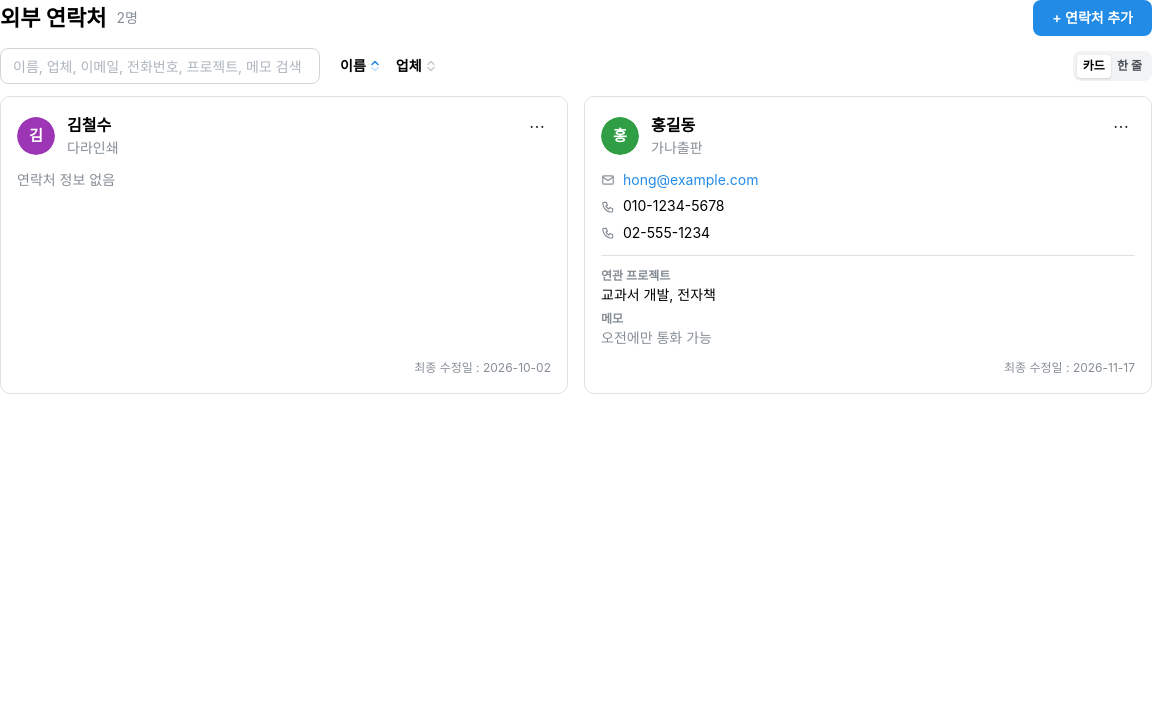
Test: ContactsPage › 수정 창을 닫은 뒤 추가 창을 열면 이전 값 없이 빈 입력으로 시작한다
Check: the text "홍길동" is shown, box 651,113 -> 702,138
Click the button named "홍길동 메뉴" at (1121, 127), box 1107,113 -> 1135,141
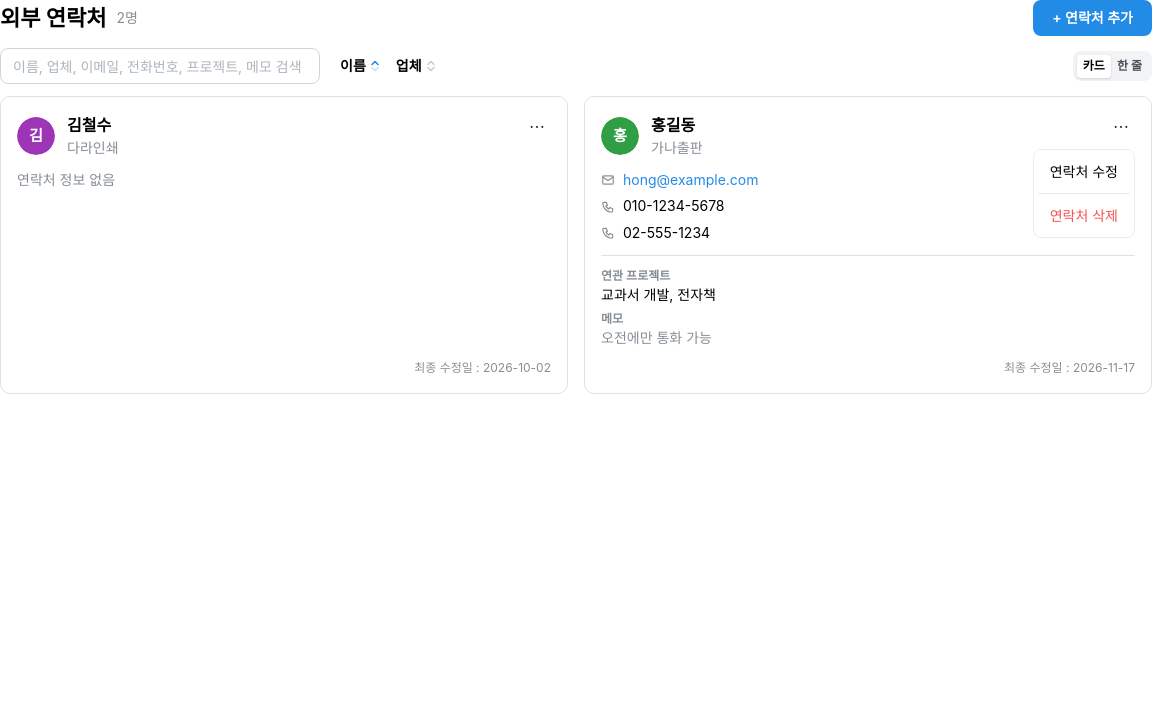
Click the menu item "연락처 수정" at (1084, 172), box 1038,154 -> 1130,189
(page scrolled)
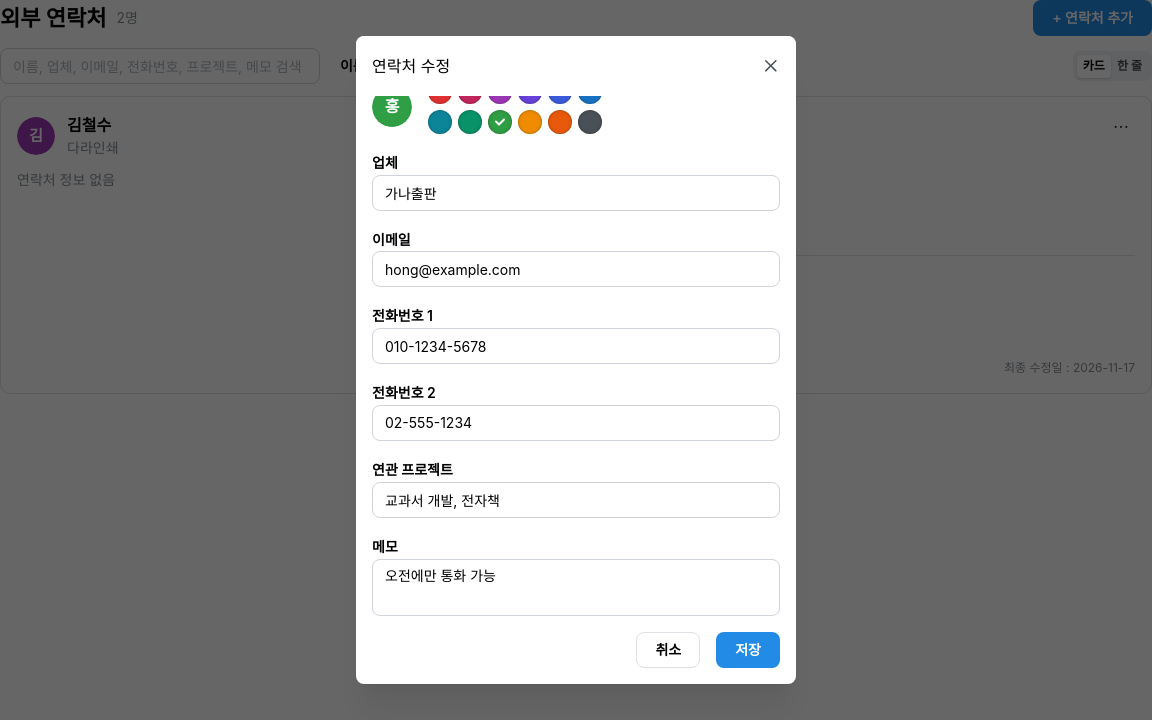
Check: the field showing "hong@example.com" is shown, box 372,251 -> 780,287
Click the button "취소" at (668, 650), box 636,632 -> 700,668
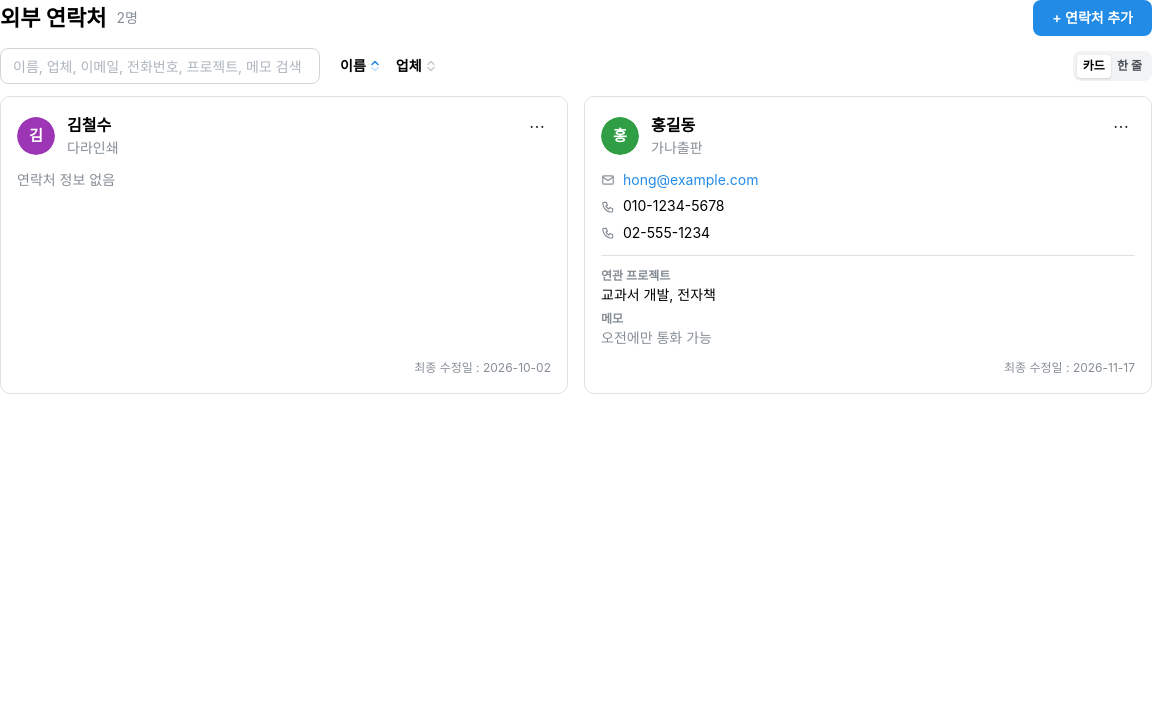
Click the button "+ 연락처 추가" at (1093, 18), box 1033,0 -> 1151,36
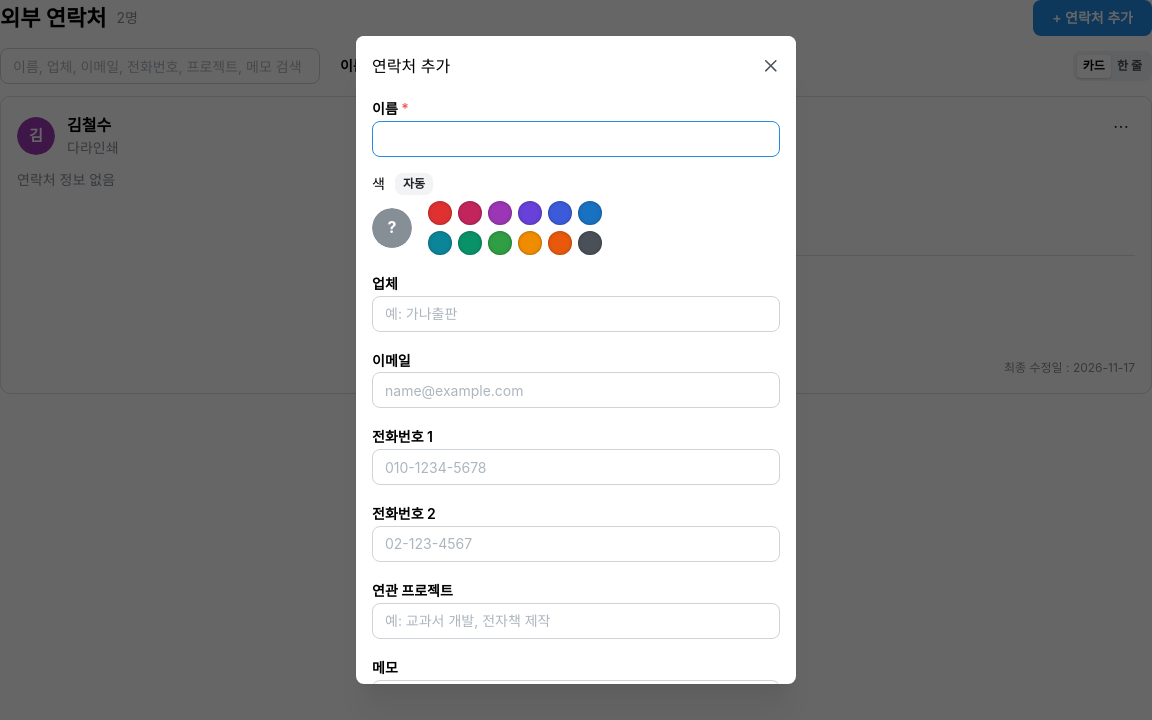
Check: the dialog "연락처 추가" is shown, box 356,36 -> 796,684
